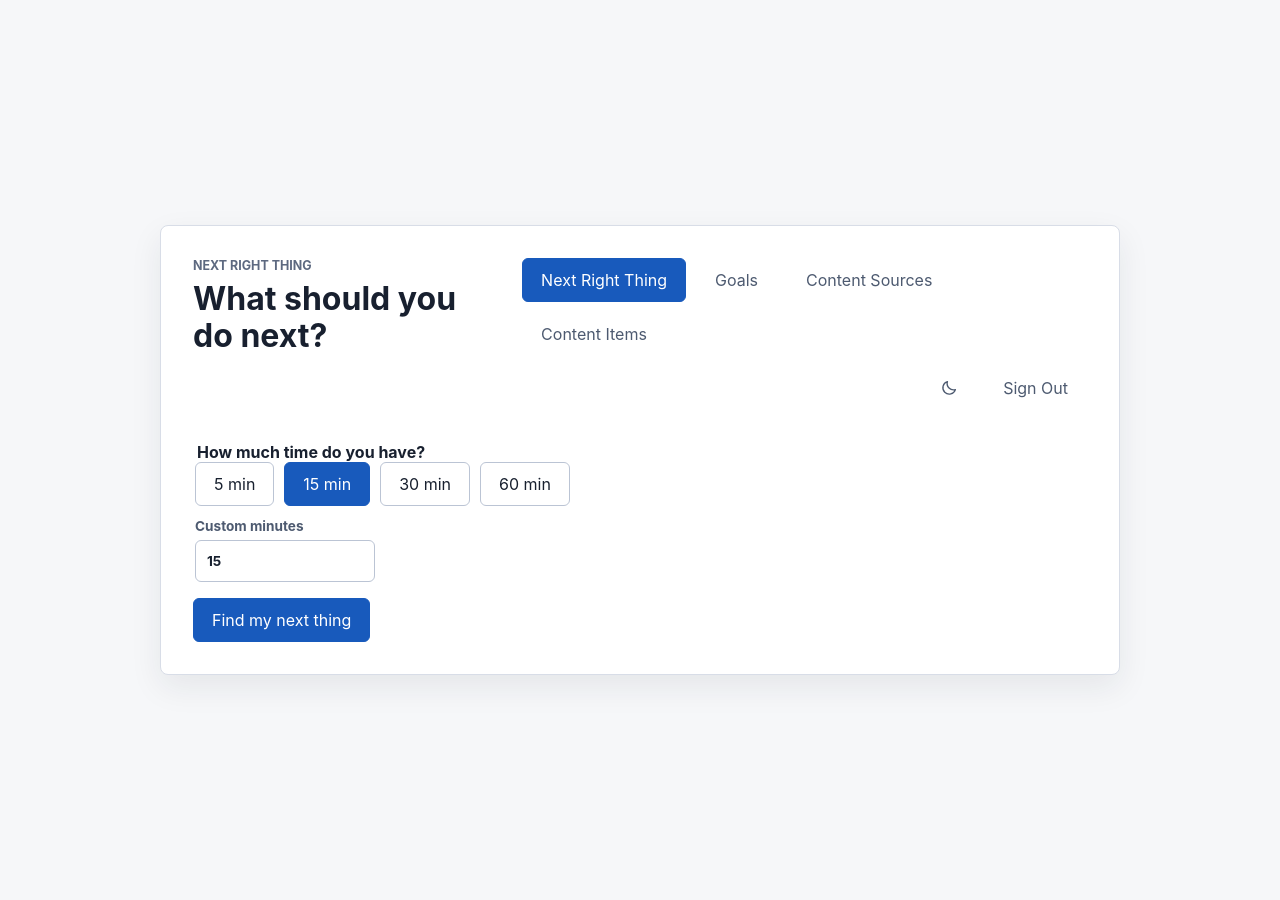
Scenario: RecommendationsPage › keeps the current recommendation and does not advance when an action fails
Click the button "Find my next thing": click(282, 620) [193,598,370,642]
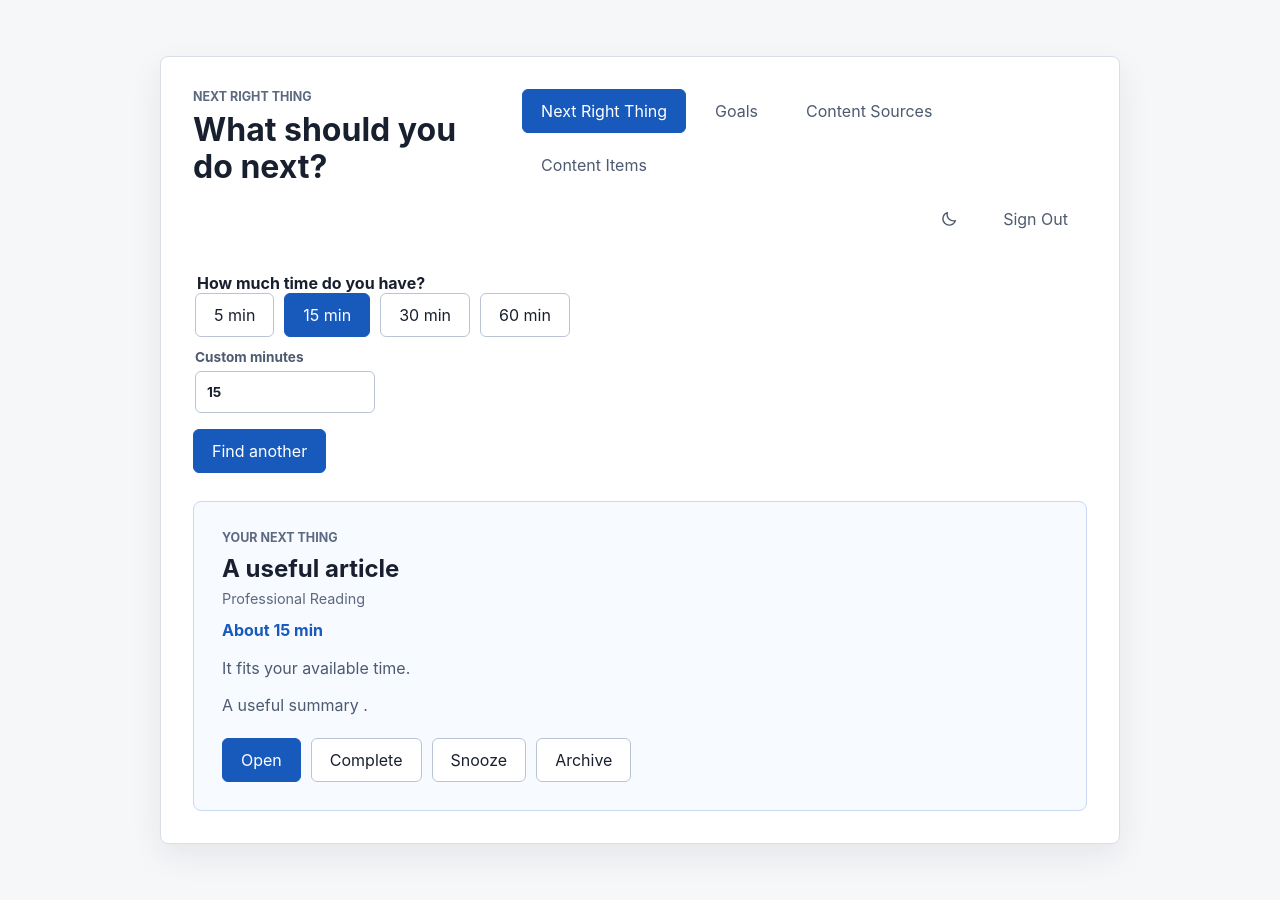
Click the button "Archive": click(584, 760) [536,738,631,782]
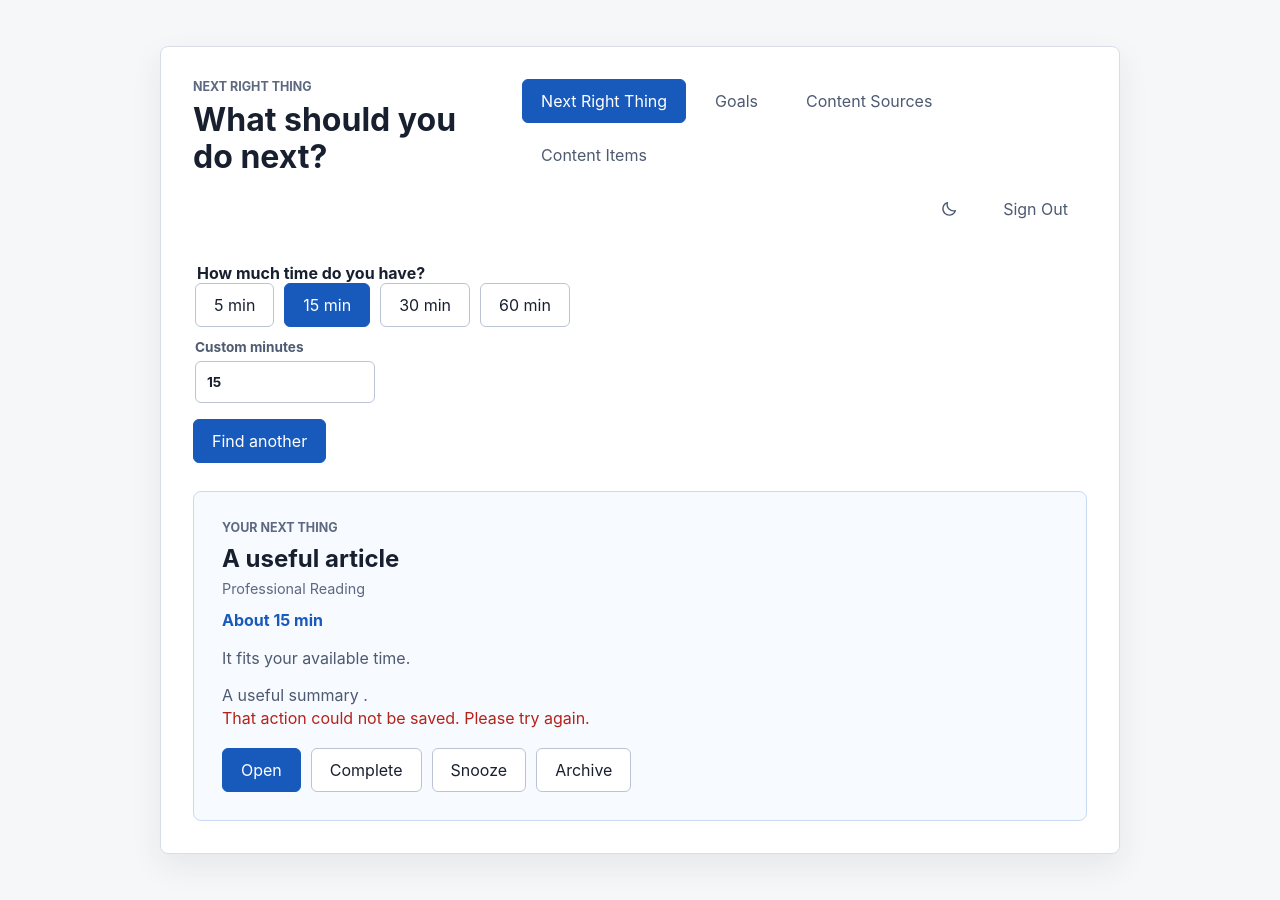
Expected: the heading "A useful article" is shown, [222,544,399,573]
Expected: the text "That action could not be saved. Please try again." is shown, [222,708,590,728]
